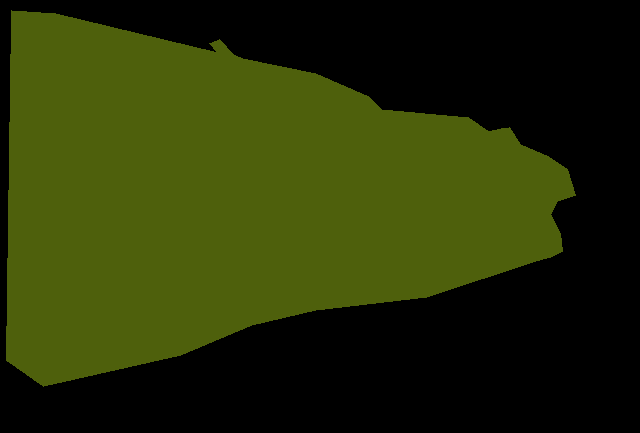Train: (6, 10, 575, 386)
